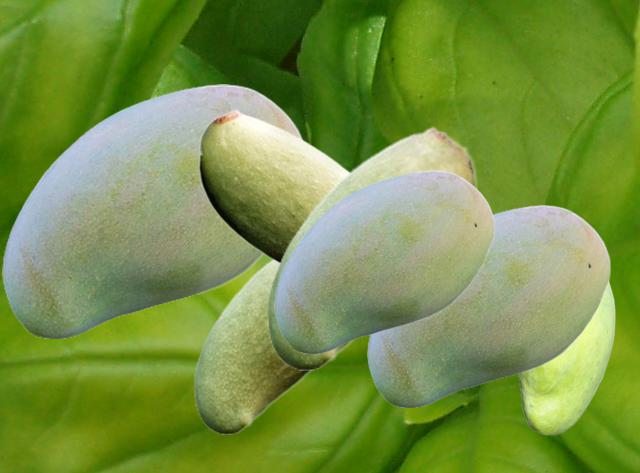green_mango: (2, 84, 305, 337), (266, 126, 476, 369), (367, 205, 610, 406), (274, 170, 494, 352), (198, 108, 348, 263), (193, 260, 314, 433), (517, 283, 614, 434)
